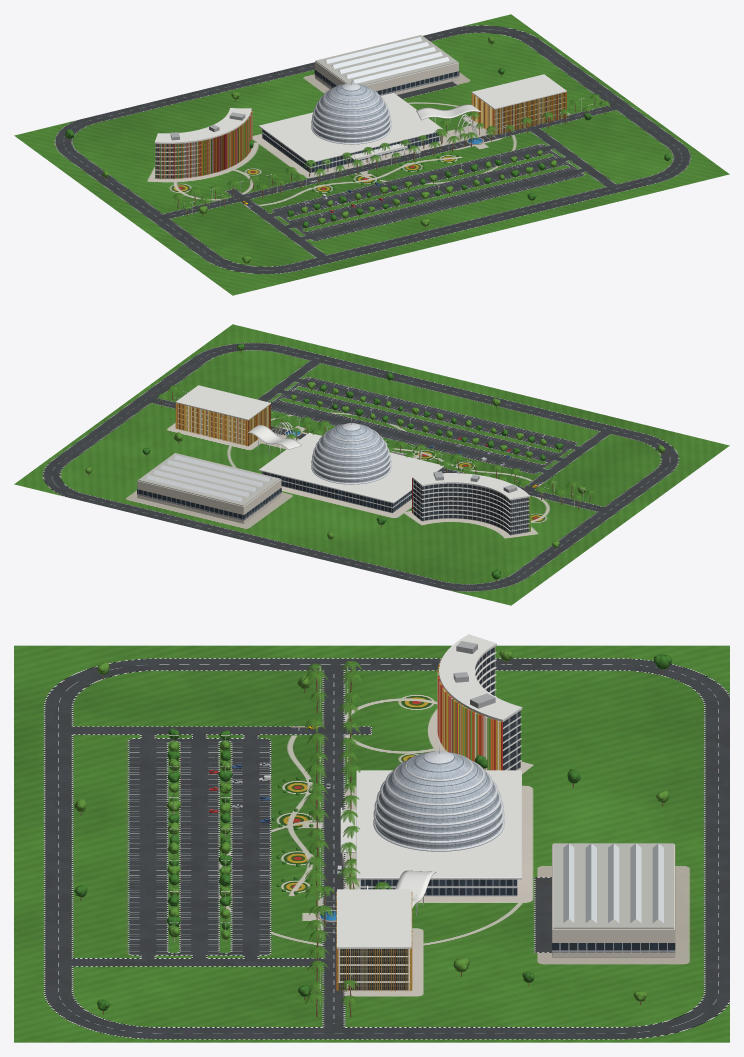
Rendered from parking-gate.glb.
3 views of the same model, one above another, from view 1: azimuth 30°, elevation 25°; view 2: azimuth 150°, elevation 25°; view 3: azimuth 270°, elevation 25° (orthographic). The views are drawn at different scales.
Parts seen in each view (by area): view 1: KCC_Site_Surface, KCC_Podium_Roof, KCC_Dome, KCC_Hall_Skylights, KCC_Hall_Roof, KCC_Office_Roof, KCC_Hotel_Core, KCC_Hall_Block, KCC_Podium_Glass, KCC_Hotel_Fins_yellow, KCC_Hotel_Roof, KCC_Office_Fins_gold (+11 smaller); view 2: KCC_Site_Surface, KCC_Hotel_Core, KCC_Dome, KCC_Podium_Roof, KCC_Hall_Skylights, KCC_Hall_Roof, KCC_Hall_Block, KCC_Office_Roof, KCC_Podium_Glass, KCC_Hotel_Slabs, KCC_Hotel_Roof, KCC_Office_Fins_gold (+6 smaller); view 3: KCC_Site_Surface, KCC_Dome, KCC_Podium_Roof, KCC_Hall_Roof, KCC_Hall_Skylights, KCC_Office_Roof, KCC_Hall_Block, KCC_Hotel_Roof, KCC_Office_Core, KCC_Podium_Glass, KCC_Hotel_Core, KCC_Hall_GlassBand (+9 smaller).
Boxes of the visible parts, x1,y1,x2,y2 form: KCC_Site_Surface: (14,14,729,295); KCC_Podium_Roof: (258,93,443,162); KCC_Dome: (311,83,391,144); KCC_Hall_Skylights: (325,37,449,83); KCC_Hall_Roof: (316,35,457,85); KCC_Office_Roof: (471,74,566,109); KCC_Hotel_Core: (155,139,207,178); KCC_Hall_Block: (315,61,458,94); KCC_Podium_Glass: (262,129,440,173); KCC_Hotel_Fins_yellow: (166,110,252,178); KCC_Hotel_Roof: (154,108,251,143); KCC_Office_Fins_gold: (472,92,565,134); KCC_Site_Surface: (14,324,729,605); KCC_Hotel_Core: (413,479,528,535); KCC_Dome: (311,424,391,484); KCC_Podium_Roof: (258,433,444,503); KCC_Hall_Skylights: (147,455,271,501); KCC_Hall_Roof: (138,453,280,506); KCC_Hall_Block: (137,479,281,523); KCC_Office_Roof: (175,385,270,420); KCC_Podium_Glass: (262,469,440,513); KCC_Hotel_Slabs: (412,479,529,531); KCC_Hotel_Roof: (412,473,529,499); KCC_Office_Fins_gold: (175,403,263,446); KCC_Site_Surface: (14,645,729,1042); KCC_Dome: (373,752,504,851); KCC_Podium_Roof: (356,770,521,879); KCC_Hall_Roof: (553,843,673,928); KCC_Hall_Skylights: (563,843,663,922); KCC_Office_Roof: (337,889,411,948); KCC_Hall_Block: (552,844,675,957); KCC_Hotel_Roof: (439,634,522,721); KCC_Office_Core: (339,949,408,990); KCC_Podium_Glass: (360,879,517,896); KCC_Hotel_Core: (475,647,520,770); KCC_Hall_GlassBand: (552,943,675,952).
Size of the model in its own units: 420 by 50.59 by 320.
Materials: 75 (20 with a texture image).
